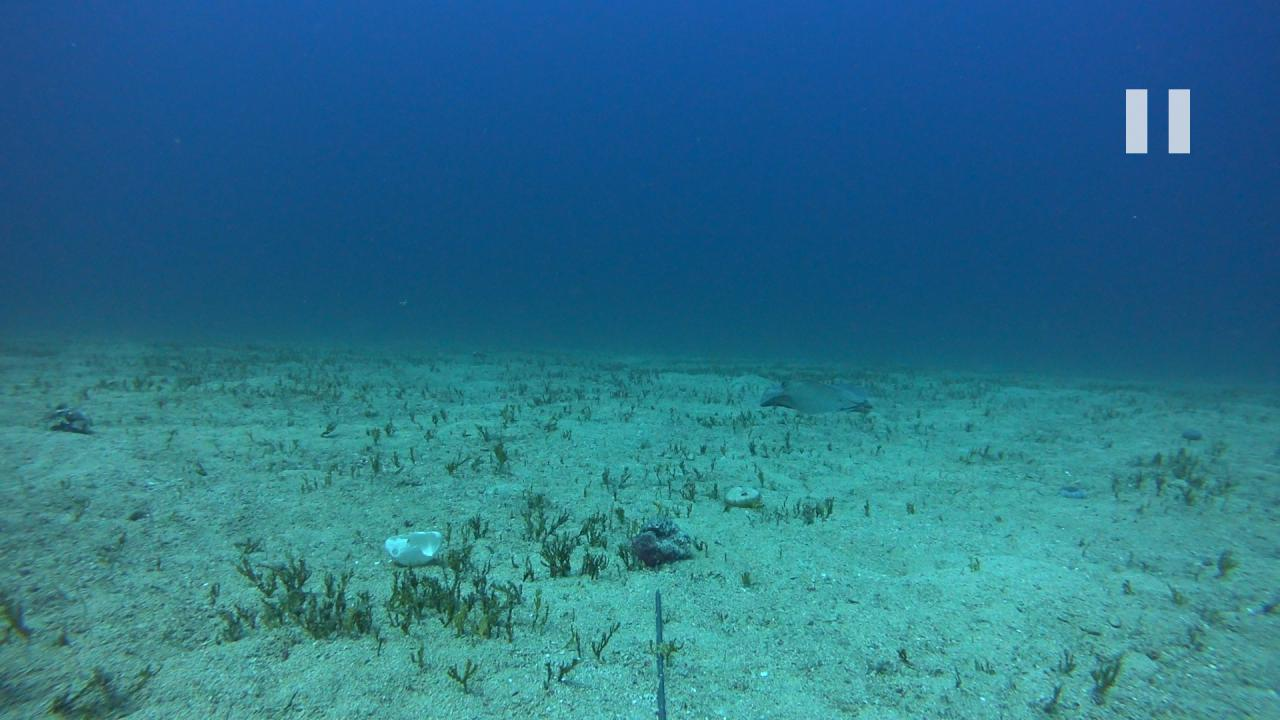dasyatis: (759, 376, 873, 413)
